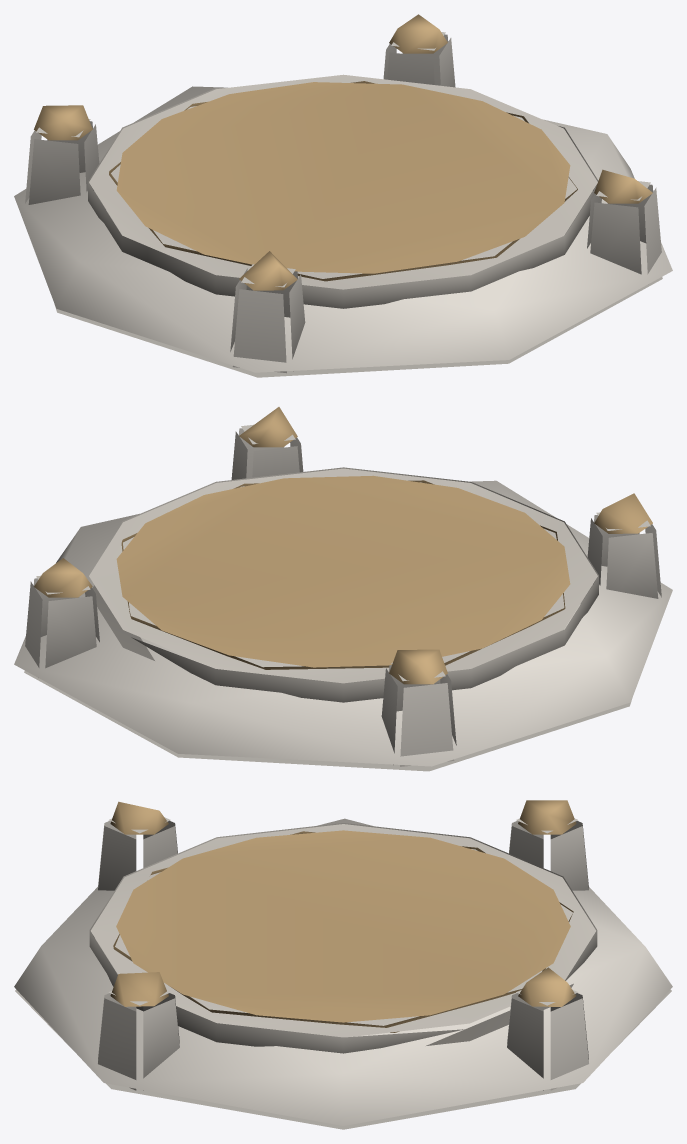
File: ink_cannon_base_lod2.glb
The picture shows the model from 3 angles, top to bottom: view 1: azimuth 30°, elevation 25°; view 2: azimuth 150°, elevation 25°; view 3: azimuth 270°, elevation 25°; orthographic projection.
Parts seen in each view (by area): view 1: ink_cannon_base.001; view 2: ink_cannon_base.001; view 3: ink_cannon_base.001.
Part boxes in pixels (left/top/right/bottom): ink_cannon_base.001: left=14, top=14, right=672, bottom=377; ink_cannon_base.001: left=14, top=407, right=672, bottom=771; ink_cannon_base.001: left=14, top=800, right=672, bottom=1129.
Bounding box in the file's own units: 3.38 × 0.5844 × 3.38.
